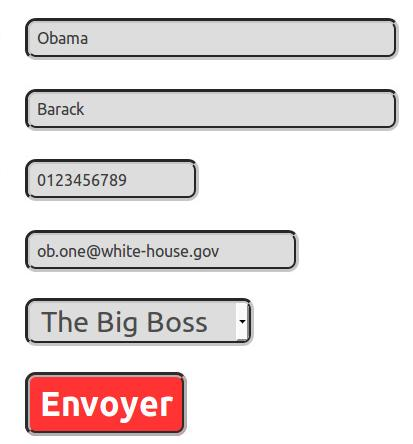button: (23, 371, 189, 437)
field: (24, 16, 399, 60), (24, 88, 401, 131), (22, 229, 301, 273), (22, 158, 201, 202)
